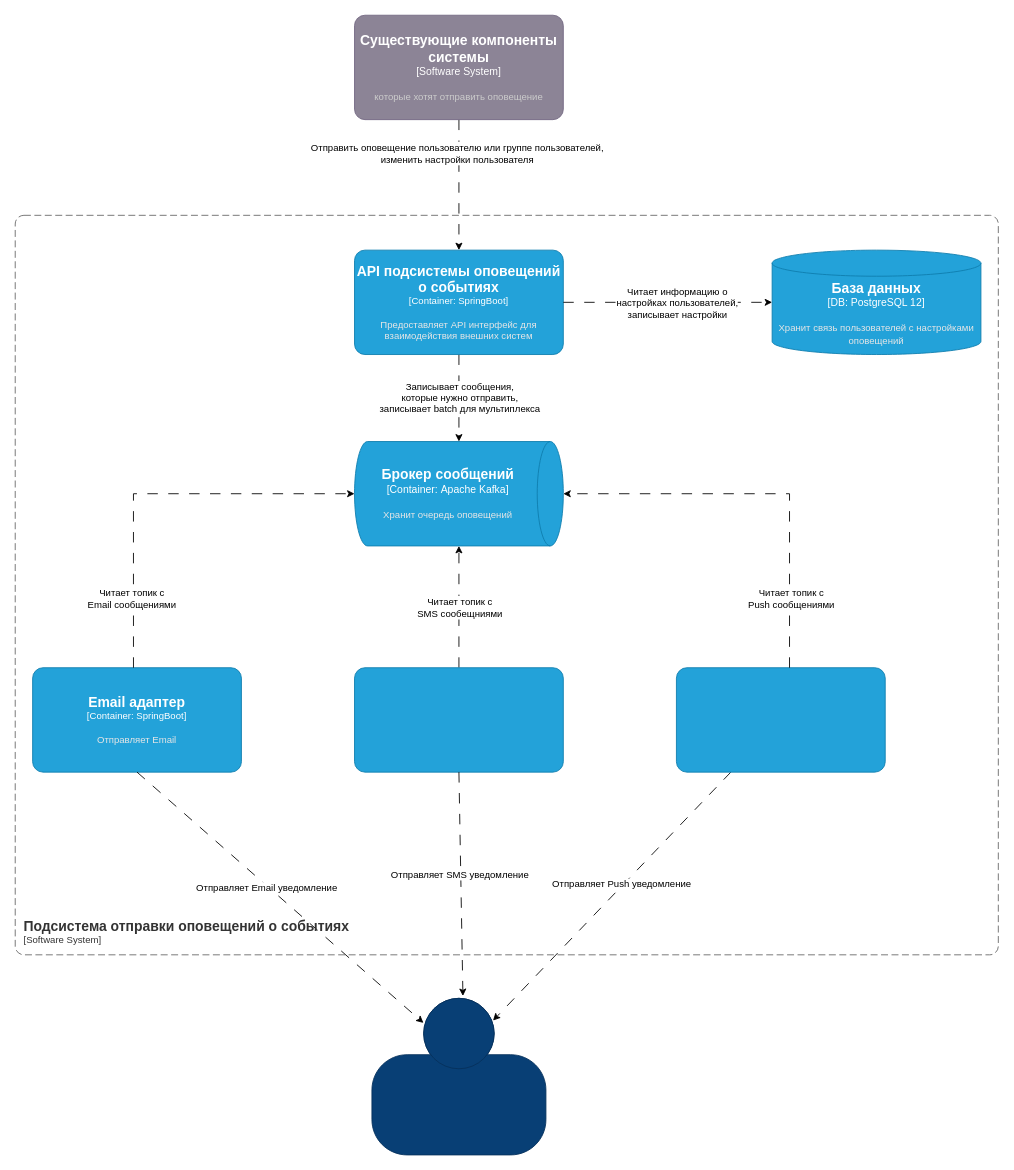
This 1014x1170 diagram has some shape labels left out. The centre of each missing label's shape, as x and y in pixels:
Push адаптер [Container: SpringBoot] Отправляет Push: [780,719]
SMS адаптер [Container: SpringBoot] Отправляет SMS: [458,719]
Пользователи [Person] Получятели оповещений: [458,1076]
